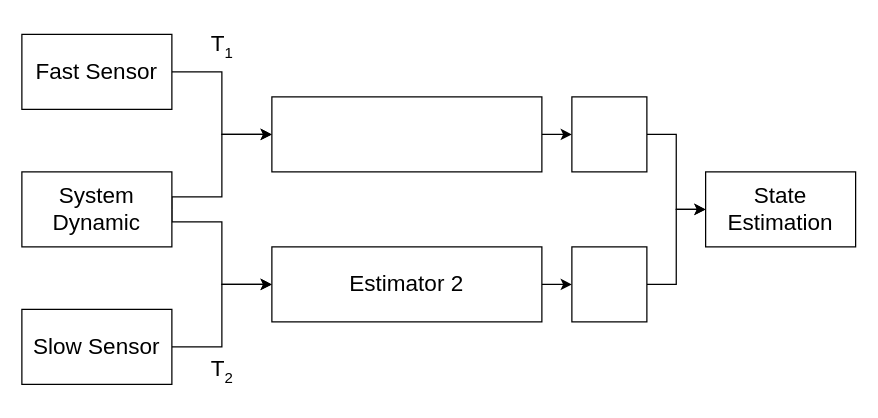
This 878x418 diagram has some shape labels left out. The centre of each missing label's shape, as x and y in pixels:
"Estimator 1" belongs at (x=406, y=134).
"W 1" belongs at (x=609, y=134).
"W 2" belongs at (x=609, y=284).
